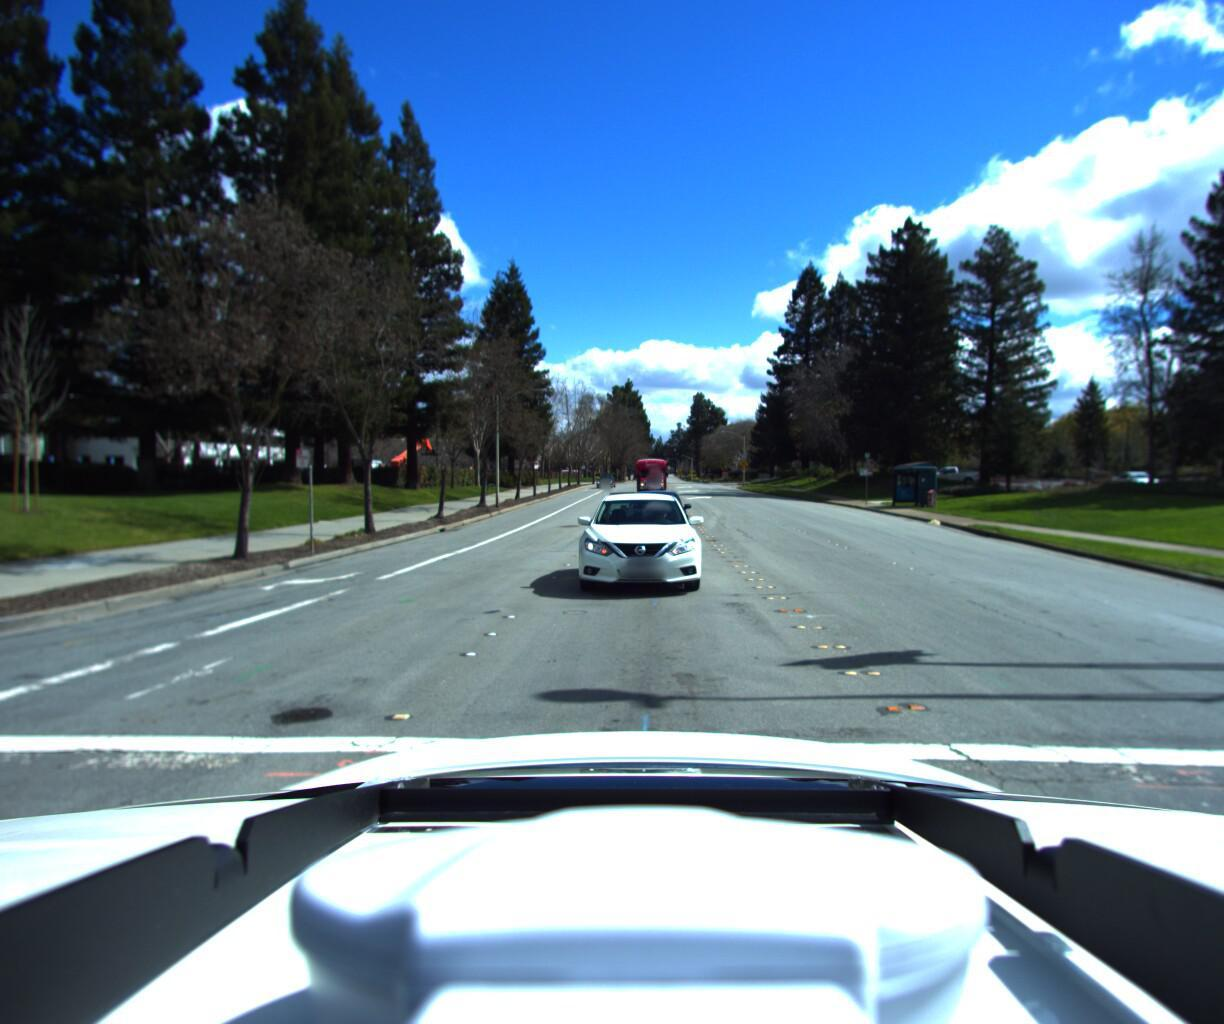bus: (630, 459, 665, 505)
car: (575, 496, 714, 614)
